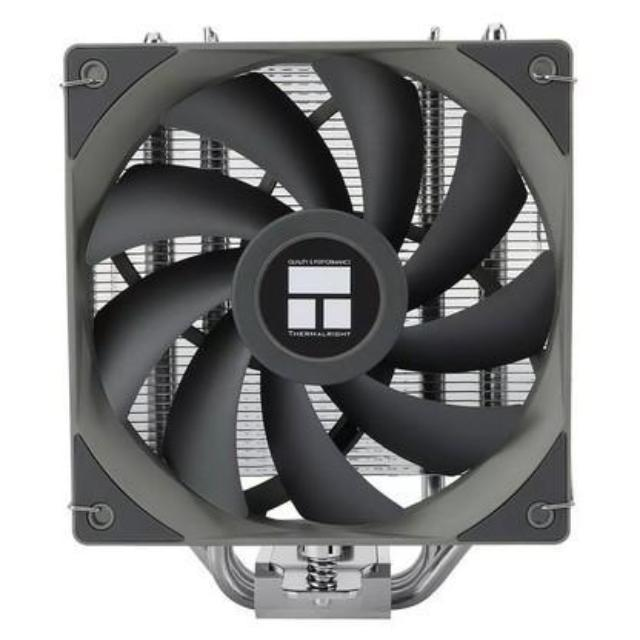CPU_Fan: (60, 25, 577, 623)
